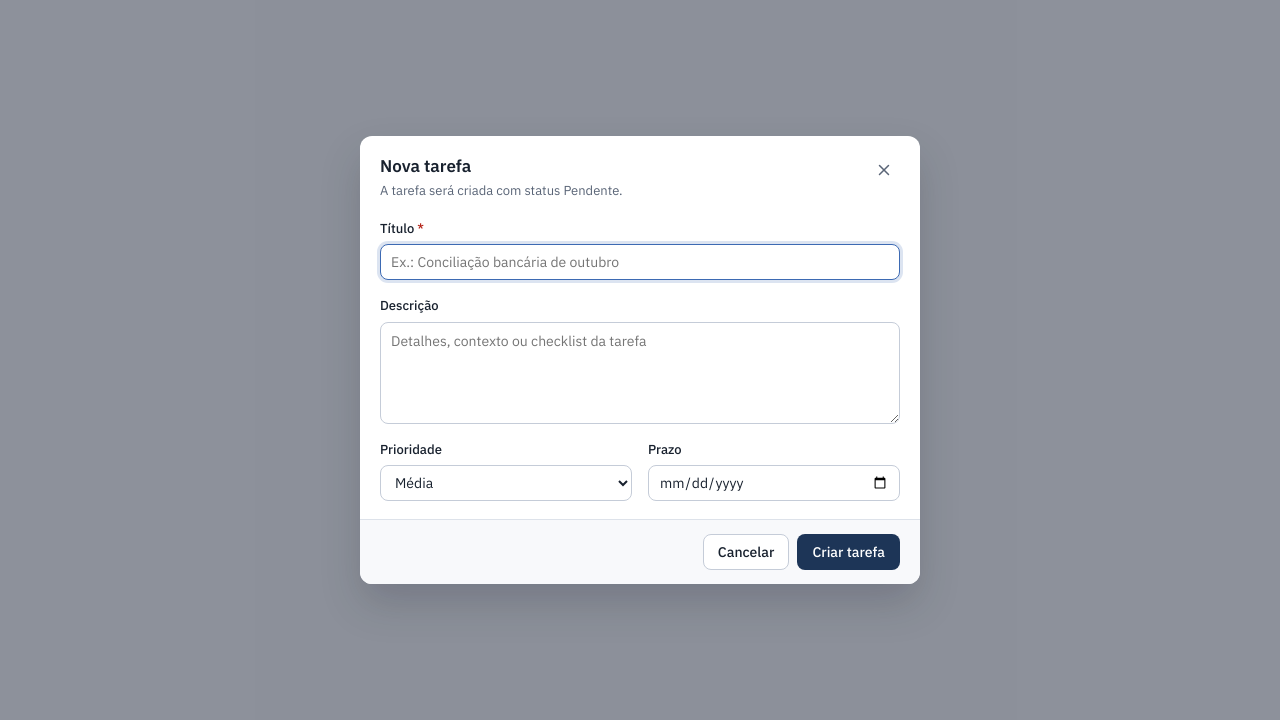
Test: TaskFormModal › não envia o formulário sem título
Click the button "Criar tarefa" at [849, 552], box [797,534,900,570]
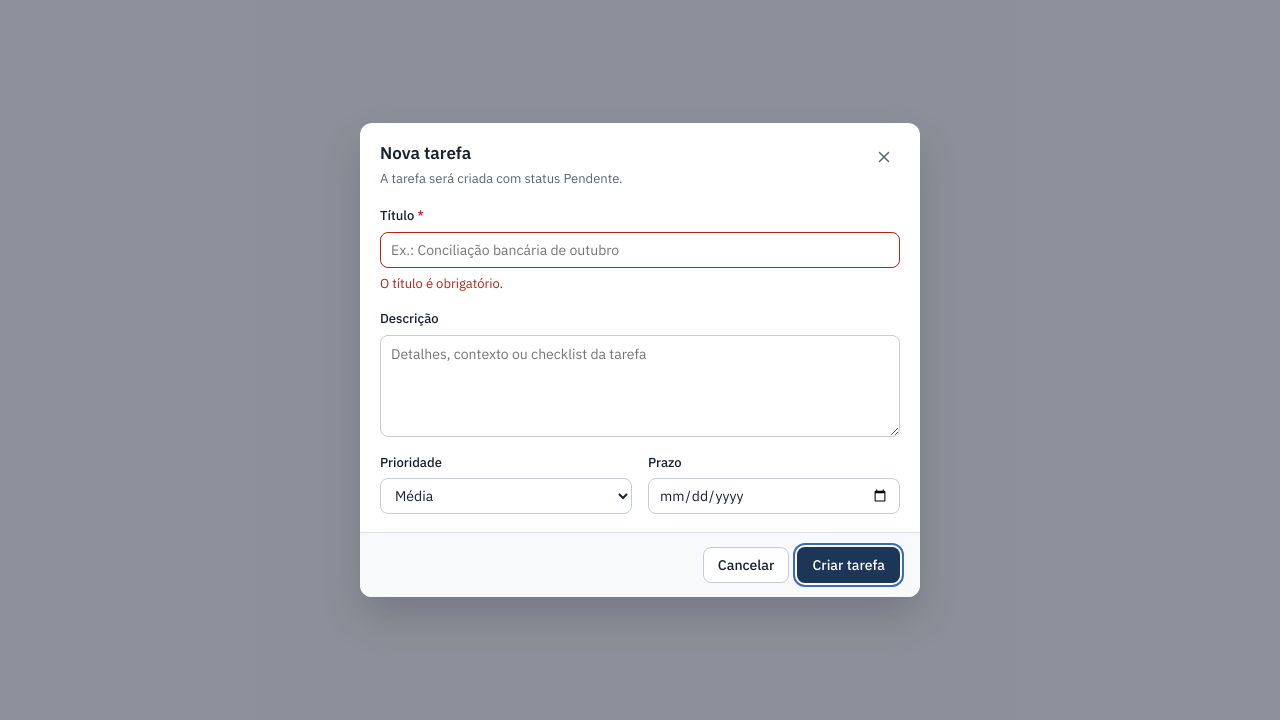
Now the text "O título é obrigatório." is shown, box [380,274,503,292]
